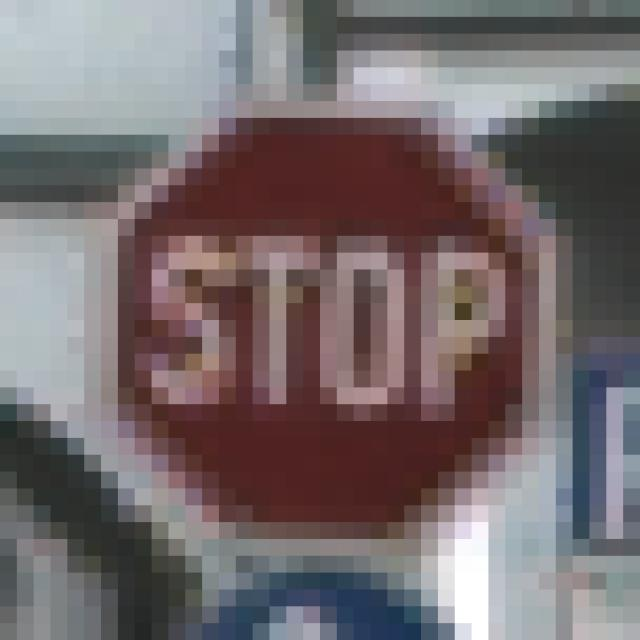STOP: (85, 85, 557, 540)
